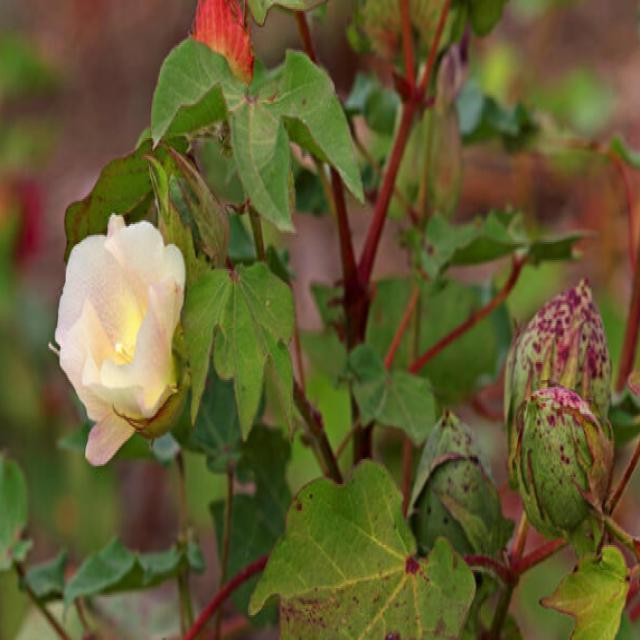Cotton Blossom: (51, 206, 196, 472)
Early Boll: (502, 271, 614, 443), (510, 382, 615, 542), (405, 405, 503, 571), (144, 152, 232, 259)
